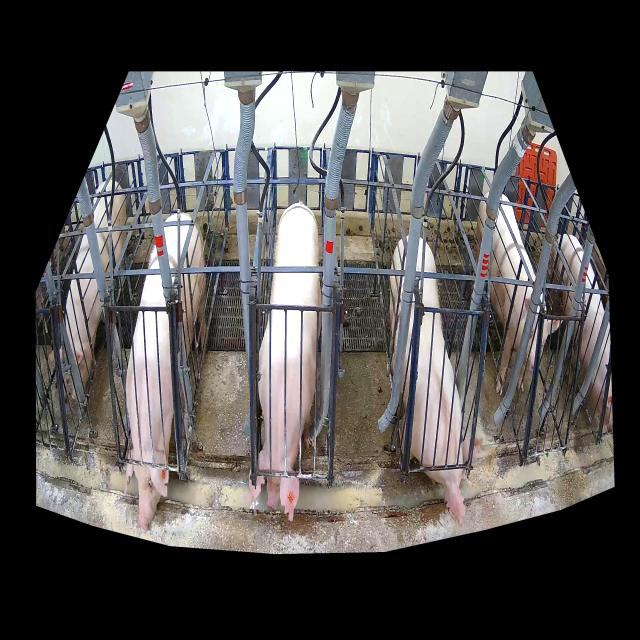pig: (388, 234, 484, 526), (124, 213, 206, 531), (249, 203, 322, 521), (476, 192, 563, 395), (50, 181, 127, 391), (550, 235, 613, 432)
